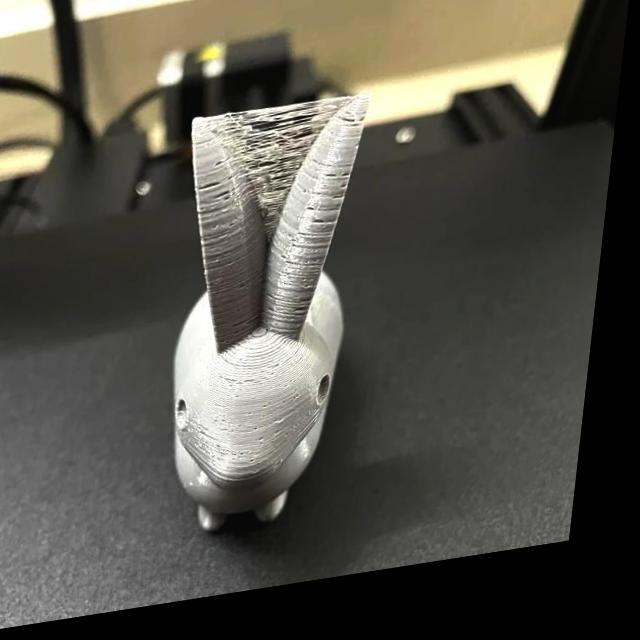stringing: (237, 110, 320, 202)
